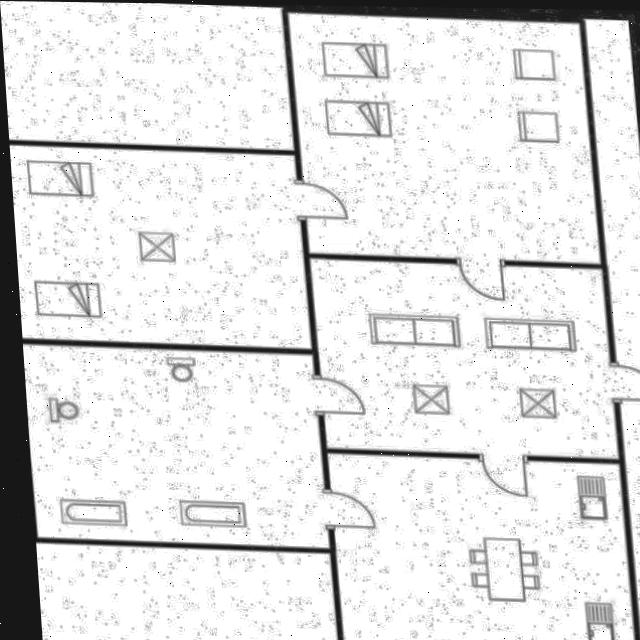room: (283, 10, 611, 260), (17, 343, 336, 547), (305, 256, 626, 456), (4, 144, 319, 347), (329, 451, 636, 640)
